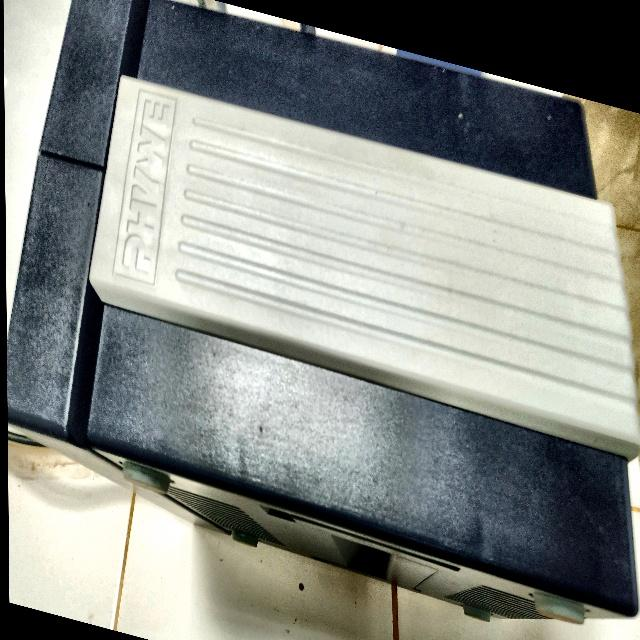Teslameter PS: (11, 0, 640, 640)
